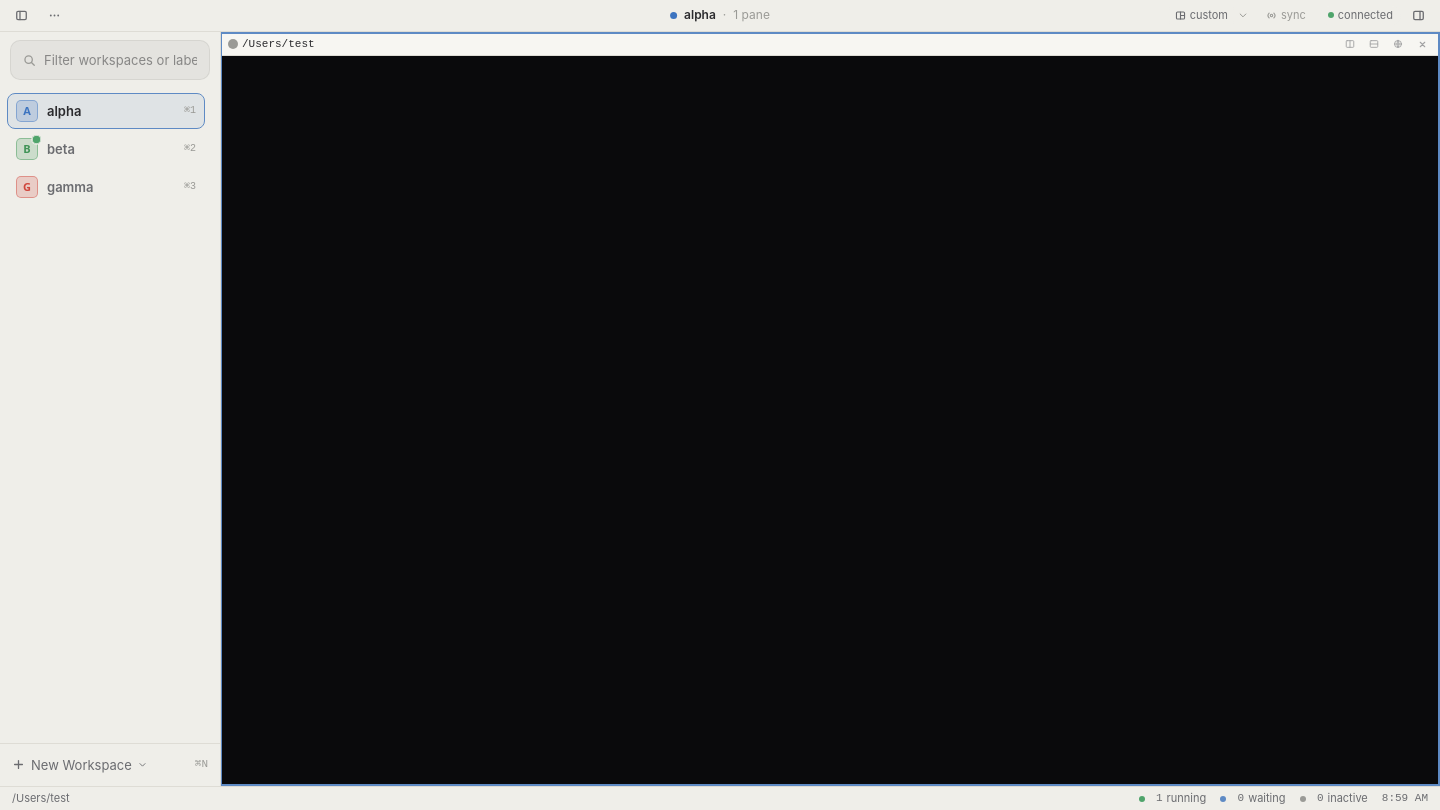
the bulk-delete confirmation (§WS-062 / §WS-060) › raises ONE dialog for the selection and then deletes every row in it
Click the option with test id "workspace-row" showing "A alpha ⌘1". click: (106, 111)
box: [8,94,204,128]
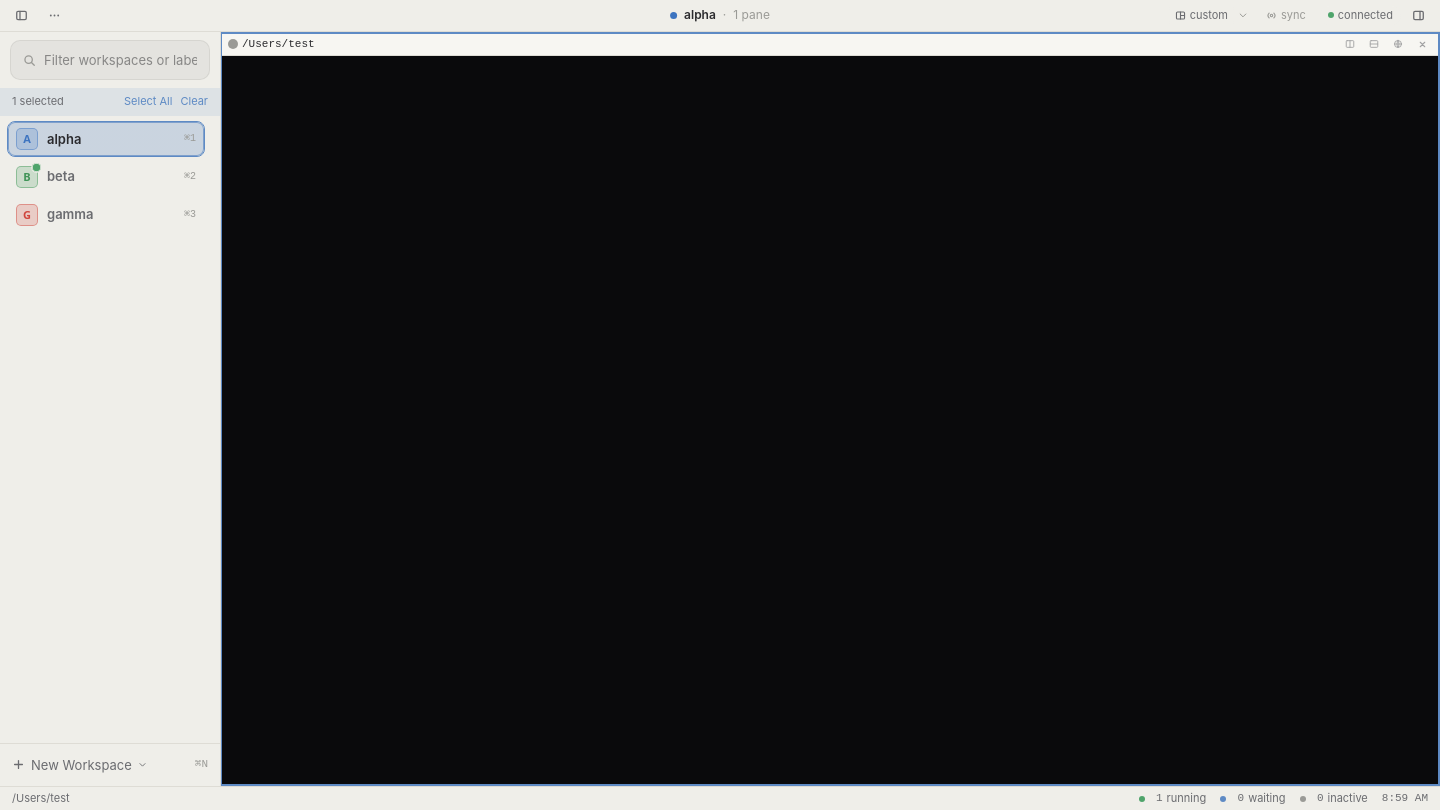
Click the option with test id "workspace-row" showing "B beta ⌘2". click: (27, 177)
box: [8,160,204,194]
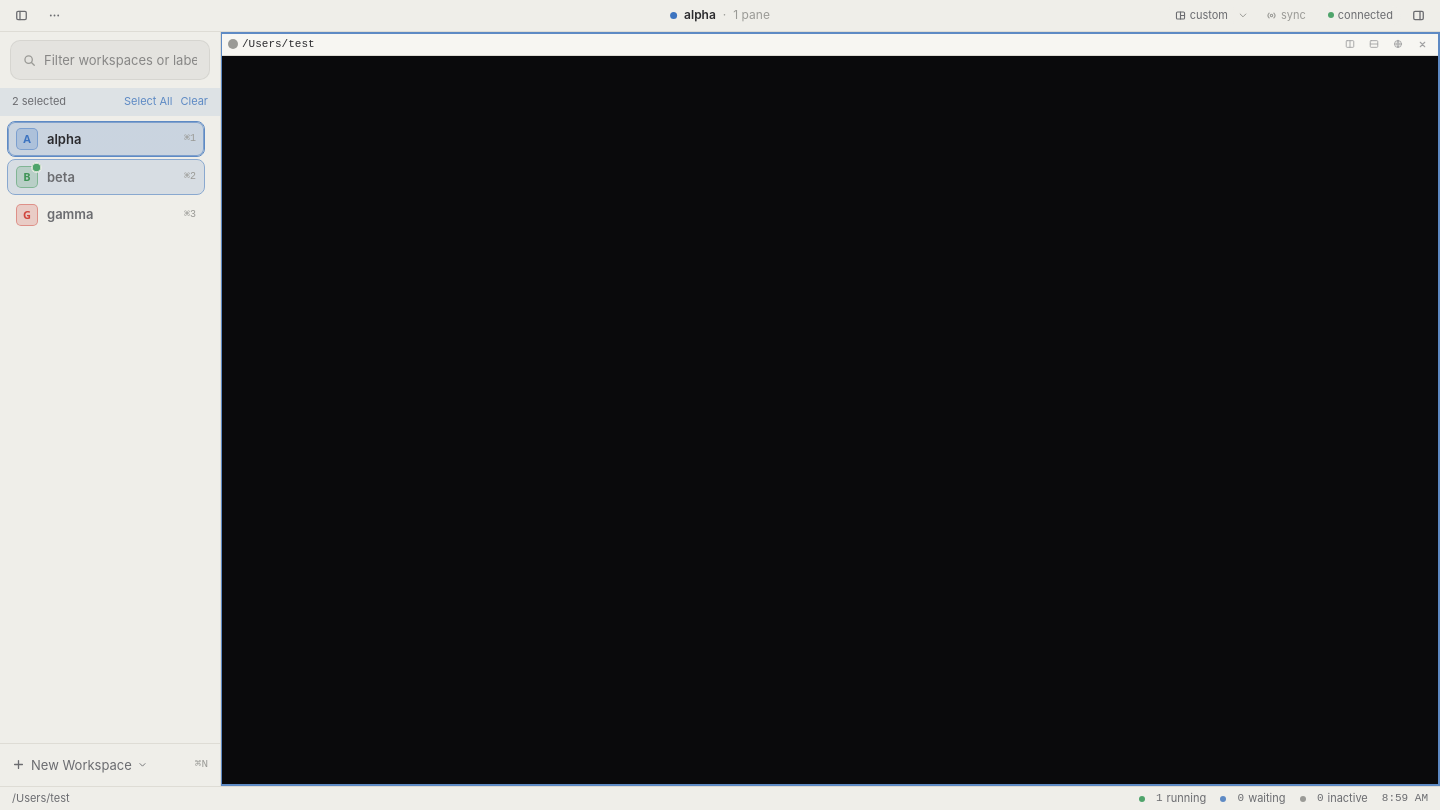
Right-click the option with test id "workspace-row" showing "A alpha ⌘1" at (106, 139), box [8,122,204,156]
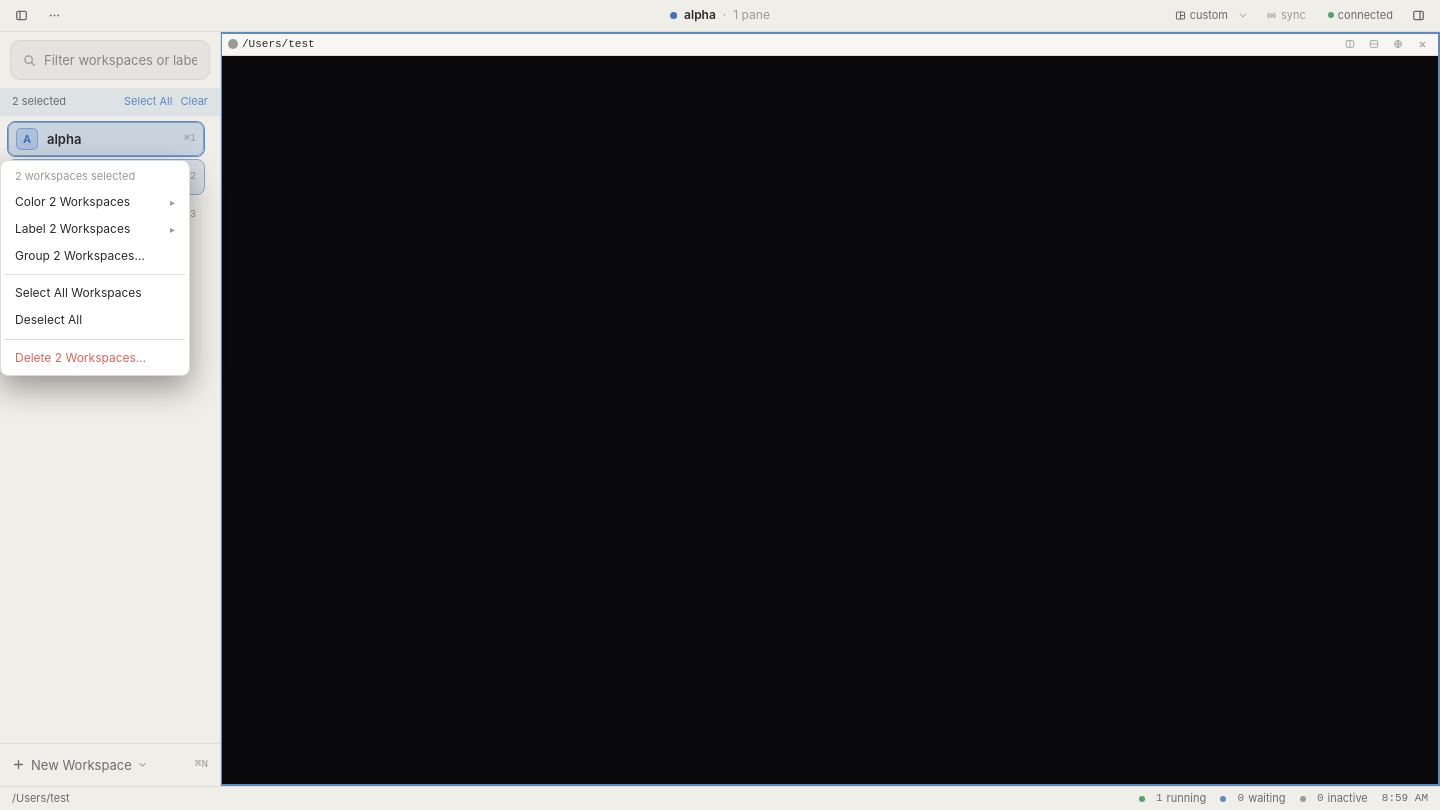
Click the menu item "Delete 2 Workspaces…". click: (95, 358)
box: [5,346,185,371]
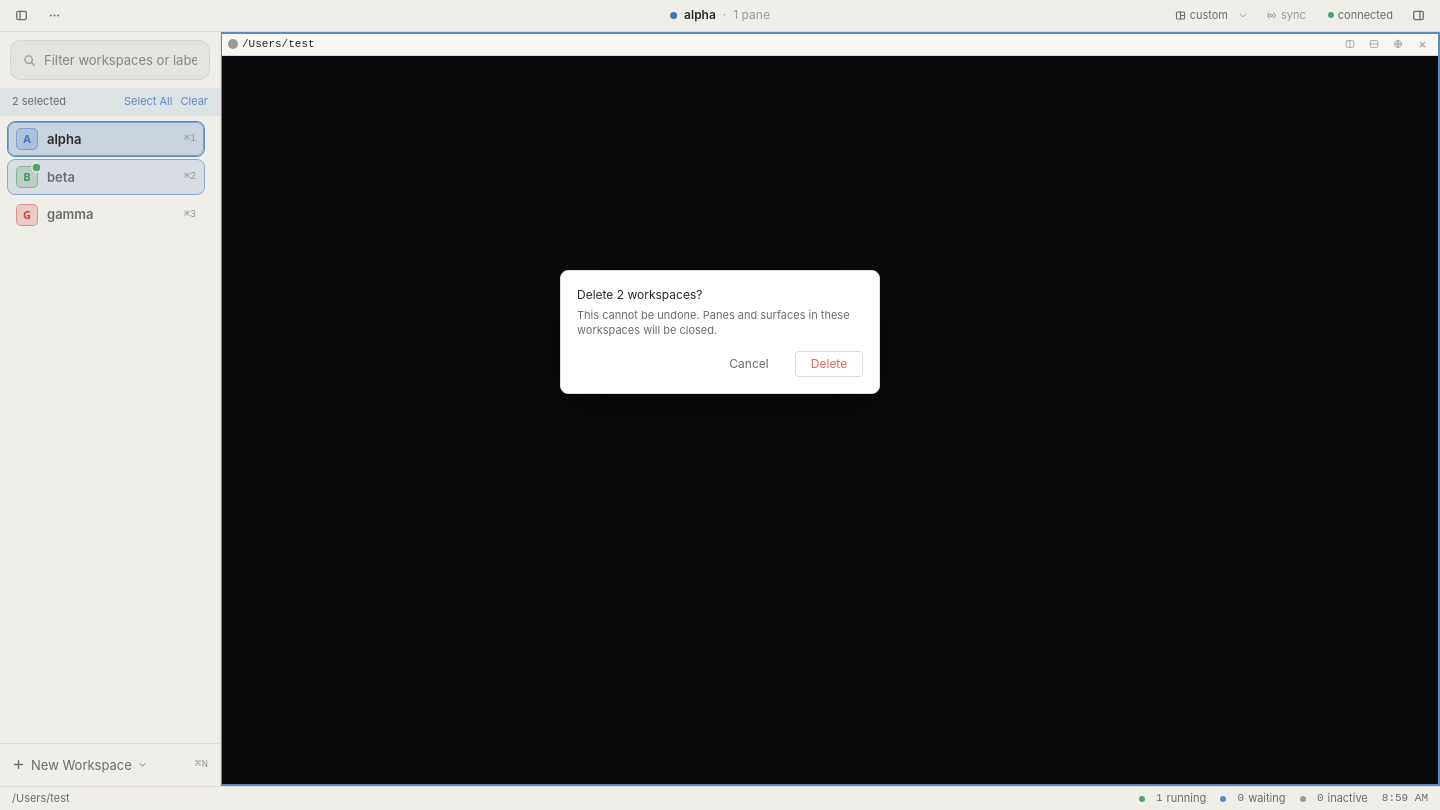
Expected: the number of dialogs with test id "confirm-dialog" is 1, [560,270,880,394]
Expected: the dialog with test id "confirm-dialog" shows "Delete 2 workspaces?", [577,287,702,302]
Expected: the dialog with test id "confirm-dialog" shows "This cannot be undone.", [577,308,850,337]
Click the button "Delete". click: (829, 364)
box: [795,351,863,377]
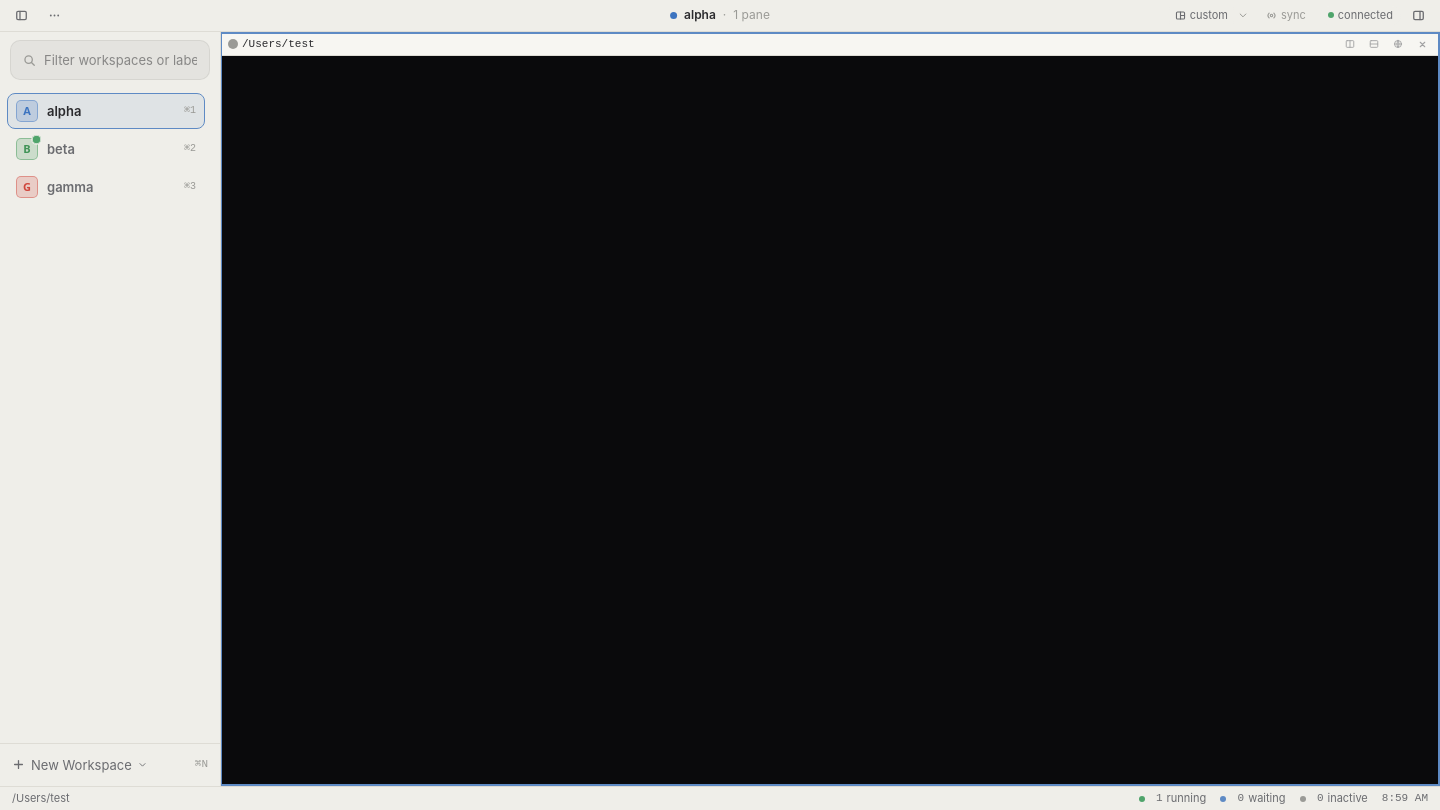
Expected: the dialog with test id "confirm-dialog" is gone
